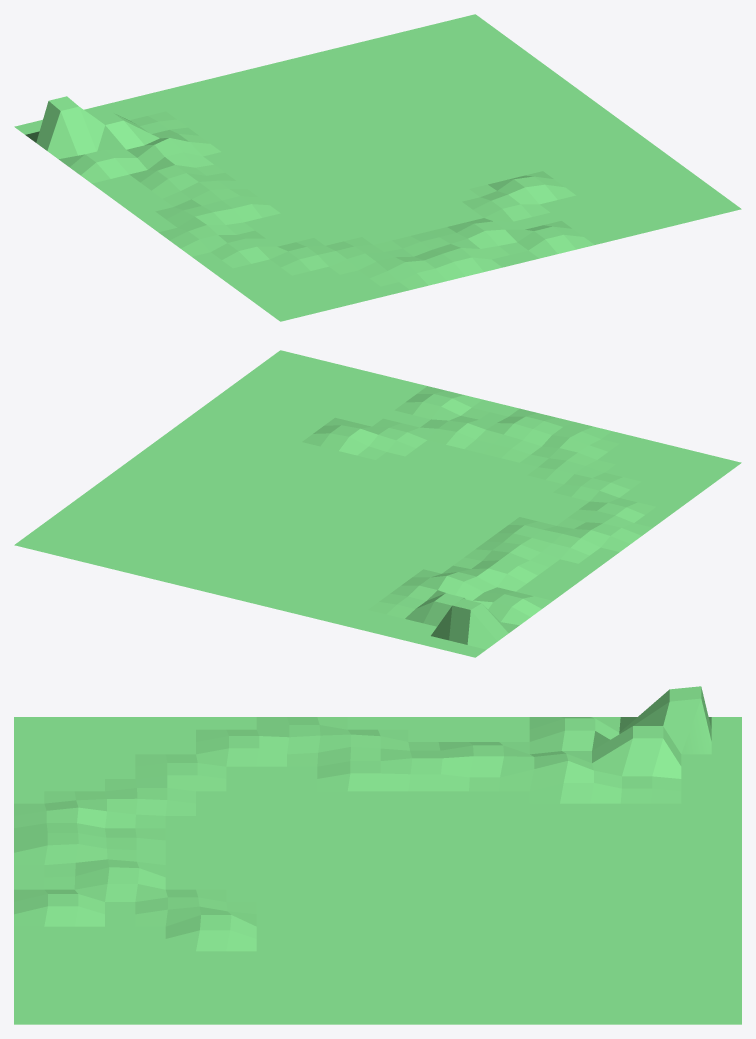
3 renders of one model, top to bottom at view 1: azimuth 30°, elevation 25°; view 2: azimuth 150°, elevation 25°; view 3: azimuth 270°, elevation 25°, orthographic. The views are drawn at different scales.
Parts seen in each view (by area): view 1: Plane; view 2: Plane; view 3: Plane.
Part boxes in pixels (bbox=[...]): Plane: bbox=[14, 14, 741, 321]; Plane: bbox=[14, 350, 741, 657]; Plane: bbox=[14, 686, 741, 1024].
Size of the model in its own units: 40 by 2.82 by 40.
